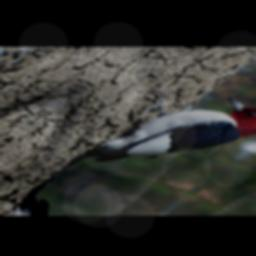Woodpecker: (64, 72, 256, 196)
